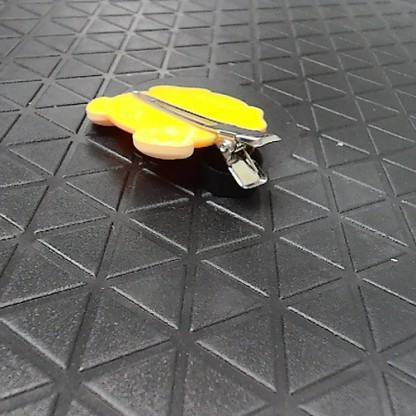dogclip: (81, 77, 280, 194)
